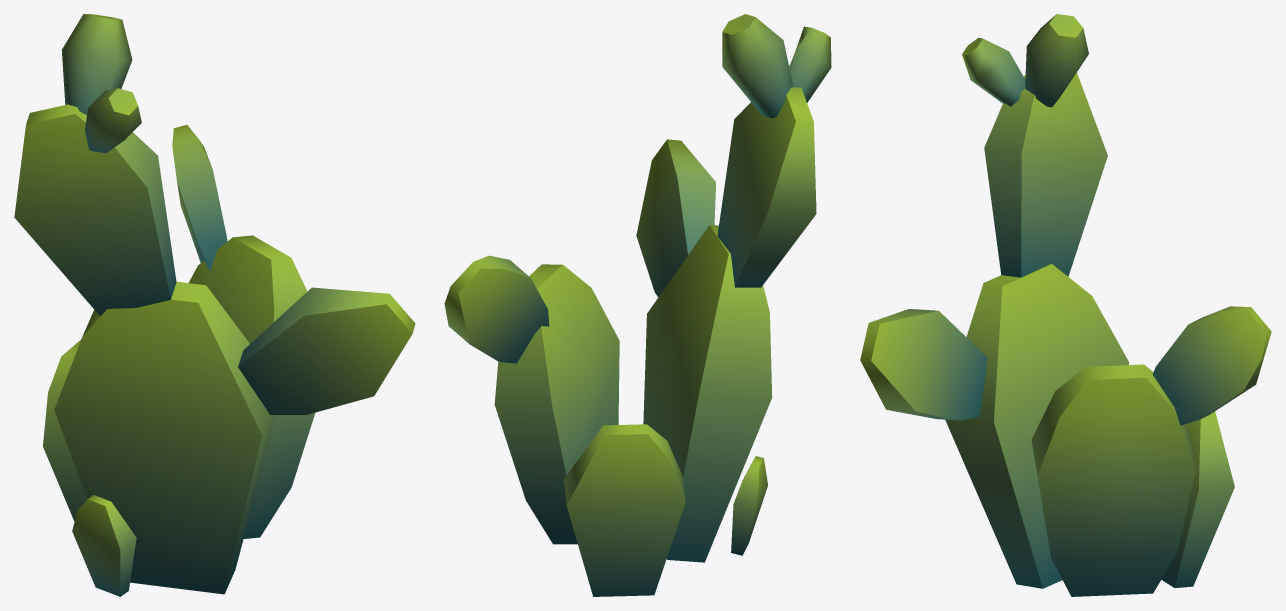
3 renders of one model, left to right at view 1: azimuth 30°, elevation 25°; view 2: azimuth 150°, elevation 25°; view 3: azimuth 270°, elevation 25°, orthographic. The views are drawn at different scales.
Parts seen in each view (by area): view 1: LOD 1_9307565563421575435_dfb458ee6005cff41928ff5135bac444; view 2: LOD 1_9307565563421575435_dfb458ee6005cff41928ff5135bac444; view 3: LOD 1_9307565563421575435_dfb458ee6005cff41928ff5135bac444.
Part boxes in pixels (x1,y1,x2,y2): LOD 1_9307565563421575435_dfb458ee6005cff41928ff5135bac444: [14, 14, 415, 596]; LOD 1_9307565563421575435_dfb458ee6005cff41928ff5135bac444: [444, 14, 831, 596]; LOD 1_9307565563421575435_dfb458ee6005cff41928ff5135bac444: [860, 14, 1271, 596].
Size of the model in its own units: 0.5619 by 1.06 by 0.7489.
